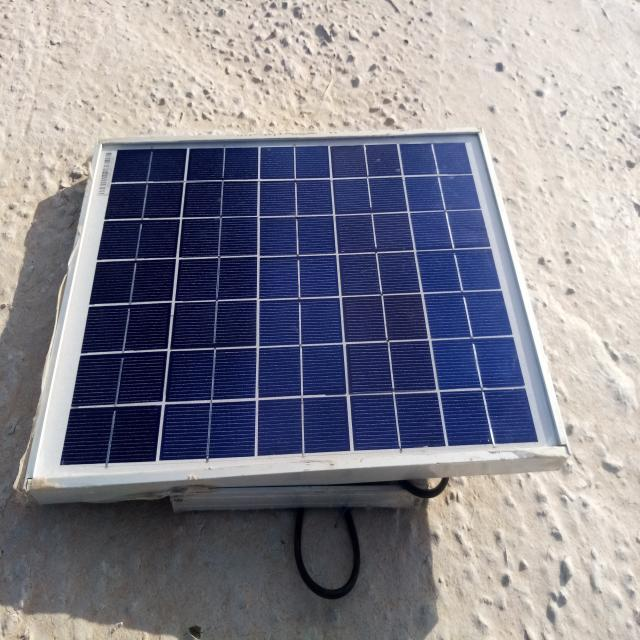no faulty: (29, 129, 568, 482)
